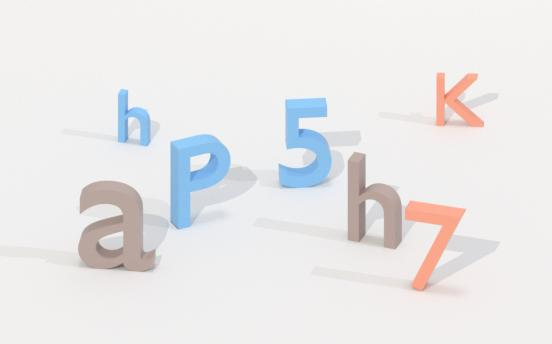5: (277, 94, 333, 193)
7: (403, 197, 467, 296)
a: (77, 178, 158, 274)
h: (345, 149, 404, 252), (114, 87, 154, 149)
k: (434, 69, 486, 131)
p: (168, 131, 233, 231)
